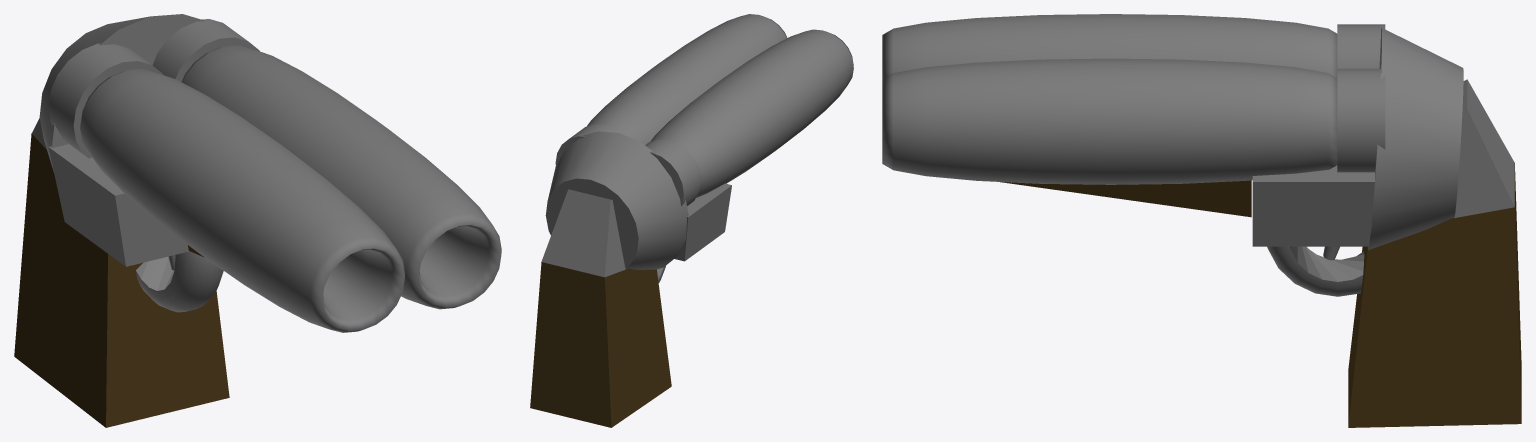
The model's file is Gun.fbx.
3 views of the same model, side by side, from view 1: azimuth 30°, elevation 25°; view 2: azimuth 150°, elevation 25°; view 3: azimuth 270°, elevation 25° (orthographic). The views are drawn at different scales.
Parts seen in each view (by area): view 1: pTorus4; view 2: pTorus4; view 3: pTorus4.
Boxes of the visible parts, <box> form: pTorus4: <box>14,14,501,427</box>; pTorus4: <box>530,14,853,427</box>; pTorus4: <box>882,14,1521,427</box>.
Size of the model in its own units: 5.71 by 9.51 by 15.21.
